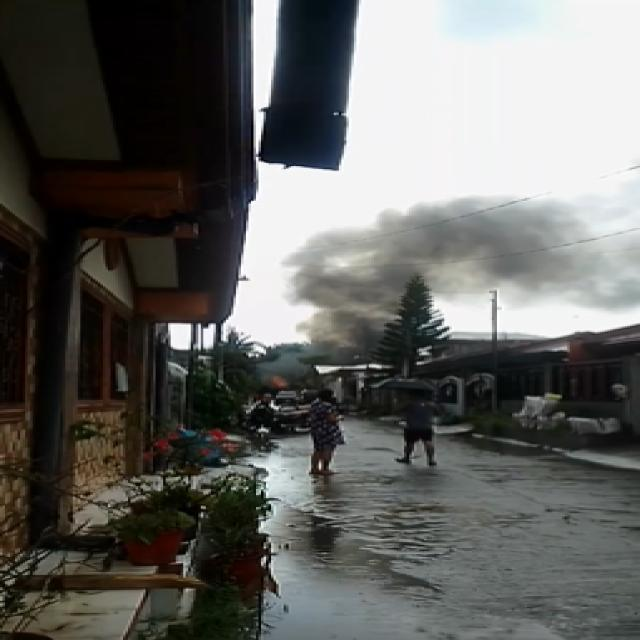Fire: (275, 378, 293, 391)
Smoke: (256, 194, 562, 386)
